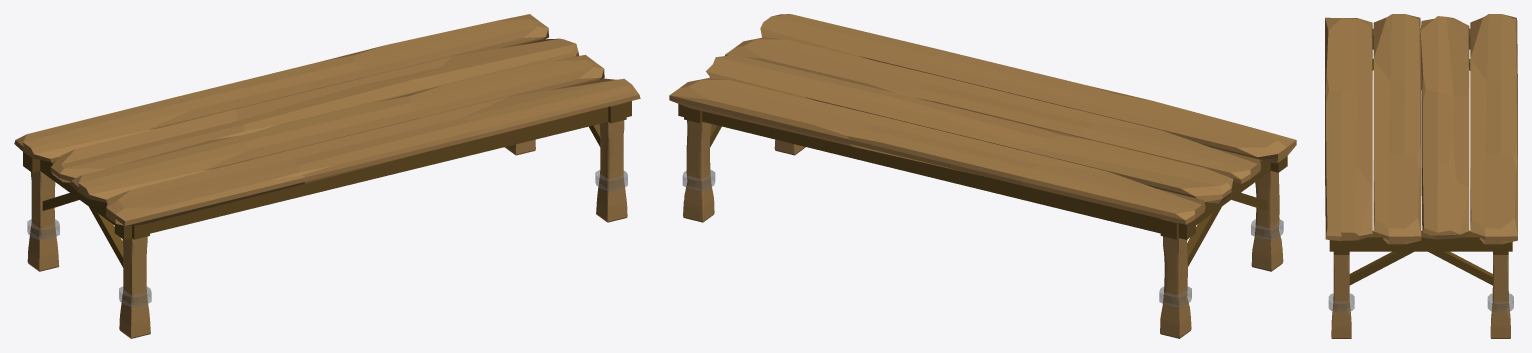
File: table.fbx
The picture shows the model from 3 angles, left to right: view 1: azimuth 30°, elevation 25°; view 2: azimuth 150°, elevation 25°; view 3: azimuth 270°, elevation 25°; orthographic projection. The views are drawn at different scales.
Visible parts, largest first — view 1: Tavolo; view 2: Tavolo; view 3: Tavolo.
Part boxes in pixels (x1,y1,x2,y2): Tavolo: (14,14,640,338); Tavolo: (669,14,1296,338); Tavolo: (1325,14,1517,338).
Bounding box in the file's own units: 650 × 158 × 242.
